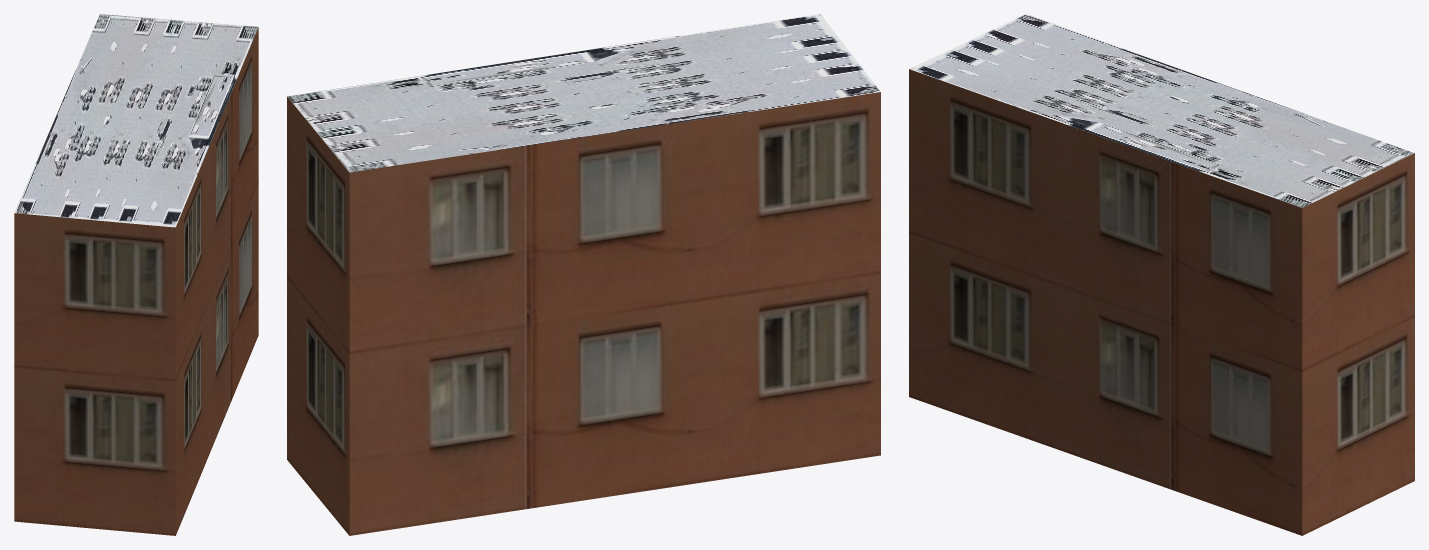
The model's file is ResTex__239.fbx.
3 views of the same model, side by side, from view 1: azimuth 30°, elevation 25°; view 2: azimuth 150°, elevation 25°; view 3: azimuth 270°, elevation 25° (orthographic). The views are drawn at different scales.
Parts seen in each view (by area): view 1: CityEngineMaterial_20_m, CityEngineMaterial_4_m; view 2: CityEngineMaterial_20_m, CityEngineMaterial_4_m; view 3: CityEngineMaterial_20_m, CityEngineMaterial_4_m.
Part boxes in pixels (<box>): CityEngineMaterial_20_m: <box>14,27,258,535</box>; CityEngineMaterial_4_m: <box>14,14,258,227</box>; CityEngineMaterial_20_m: <box>287,92,880,535</box>; CityEngineMaterial_4_m: <box>287,14,880,172</box>; CityEngineMaterial_20_m: <box>909,69,1414,535</box>; CityEngineMaterial_4_m: <box>909,14,1414,207</box>.
Size of the model in its own units: 7.62 by 6 by 8.39.
2 materials, 2 textured.
